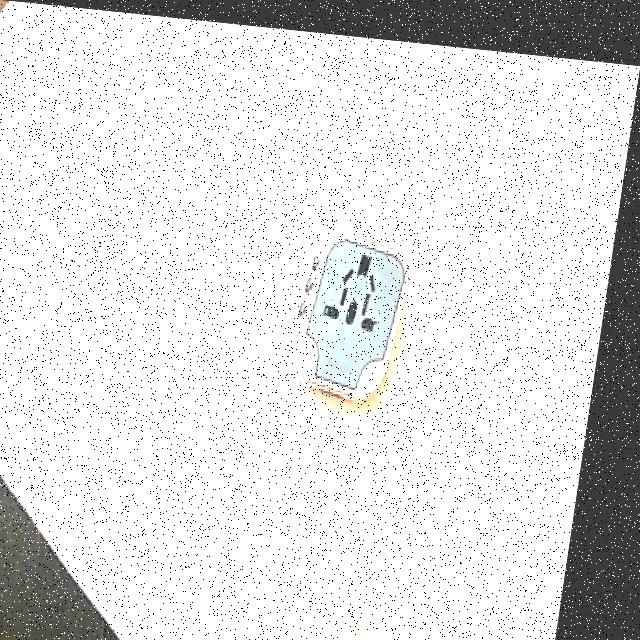adapter: (295, 222, 421, 394)
